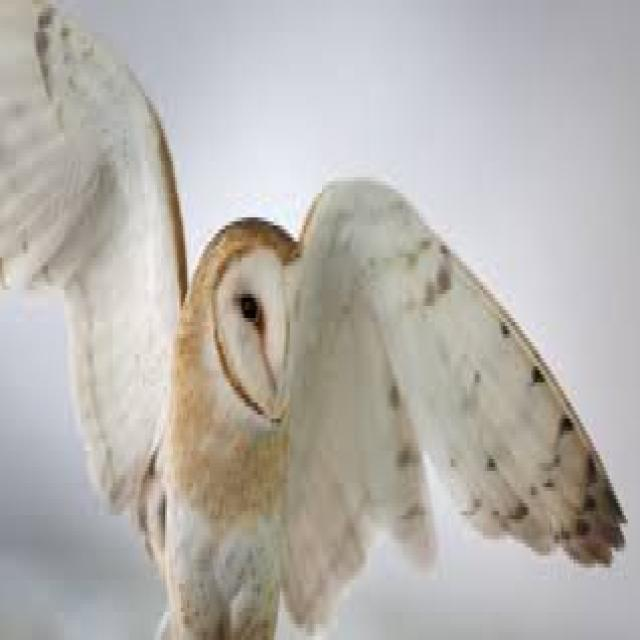Owl: (0, 6, 629, 636)
